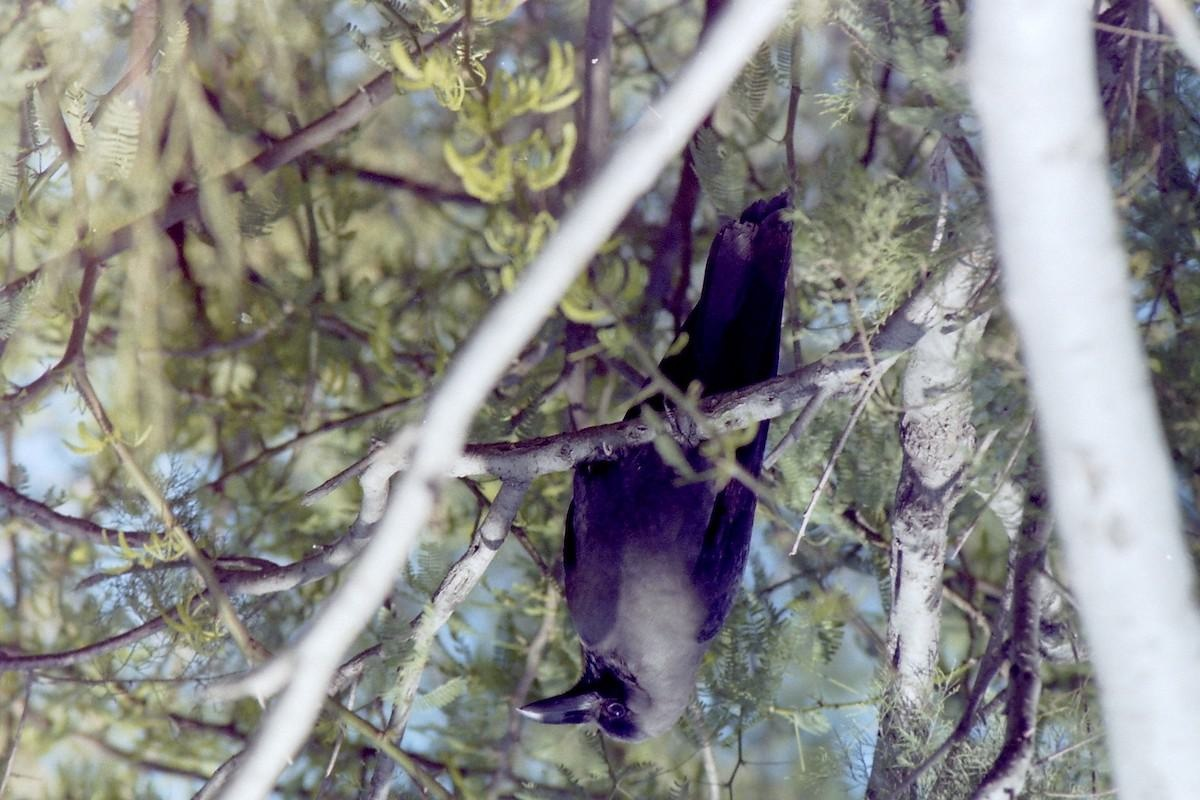crow: (517, 189, 823, 758)
